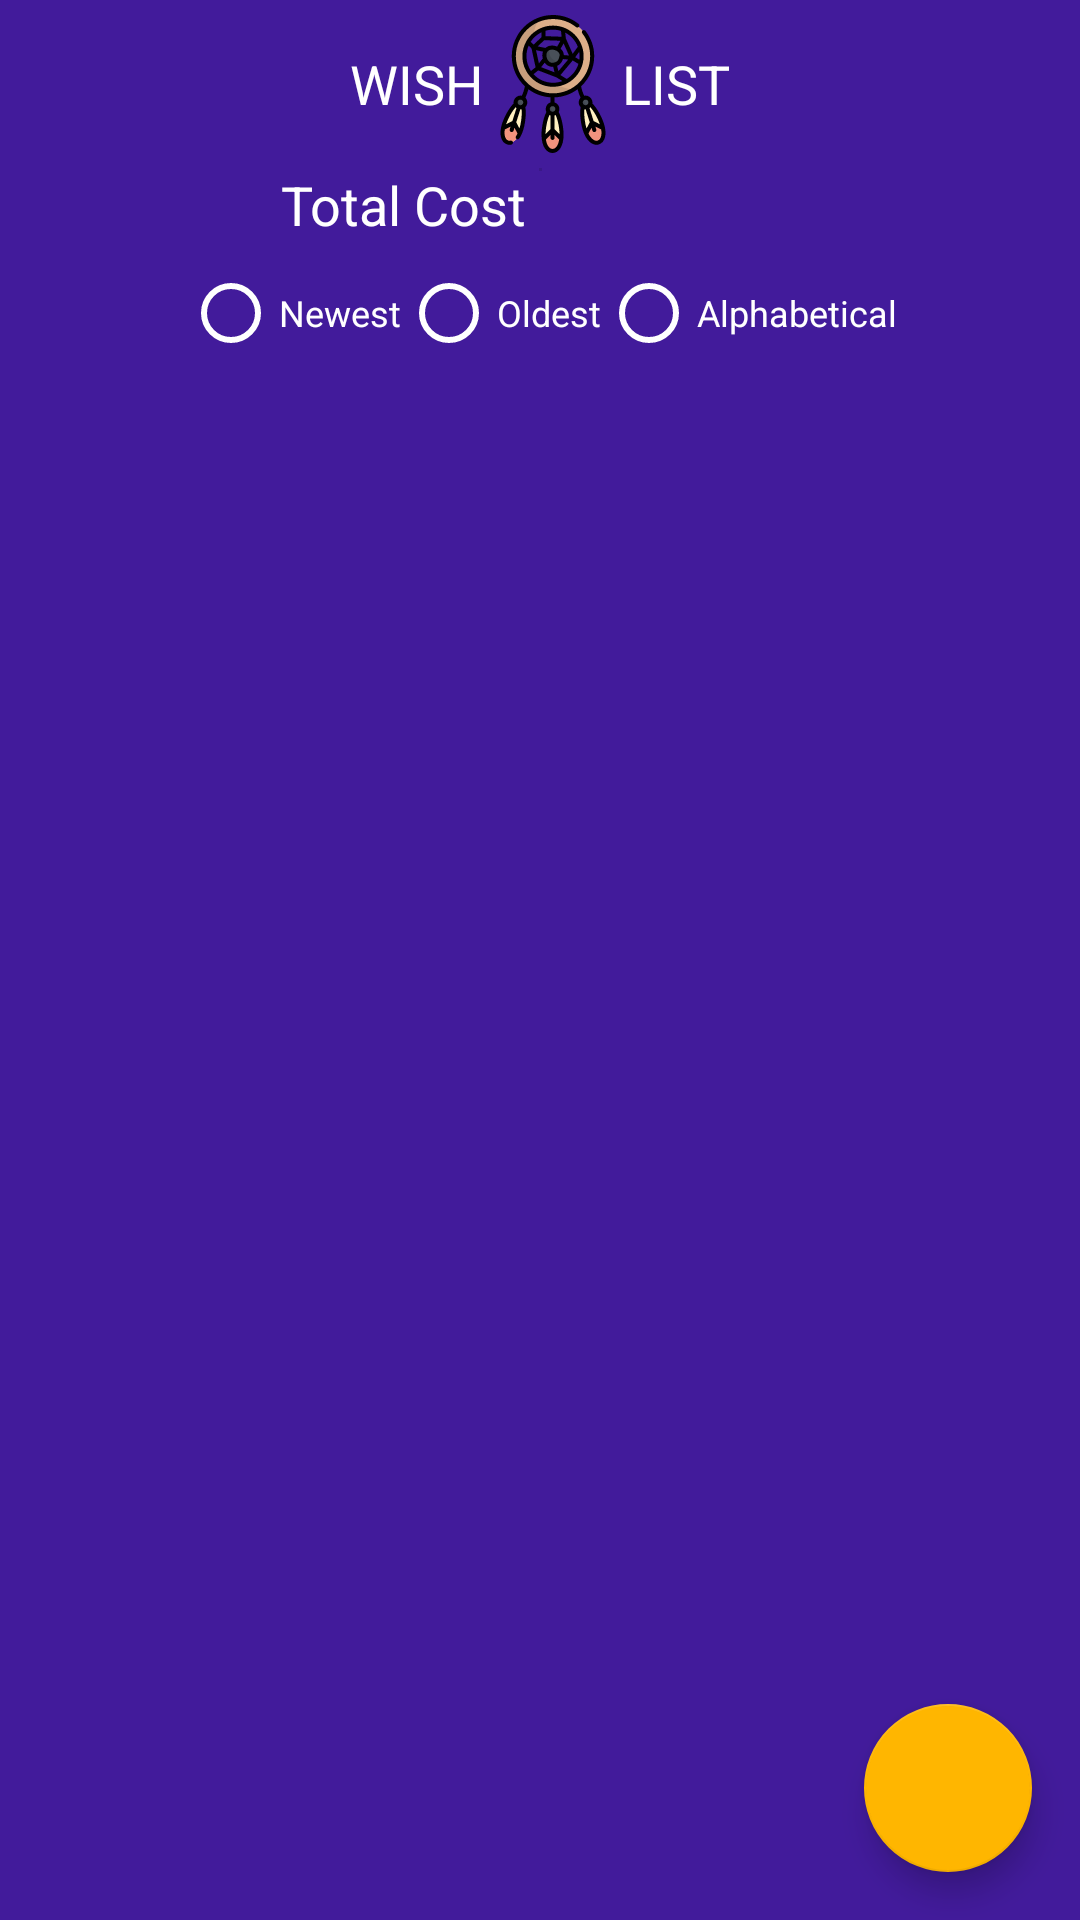

Screen size 1080px×1920px. Icon name, then its box in pixels as (x1, y1, x2, y2):
decoration: (500, 15, 606, 153)
